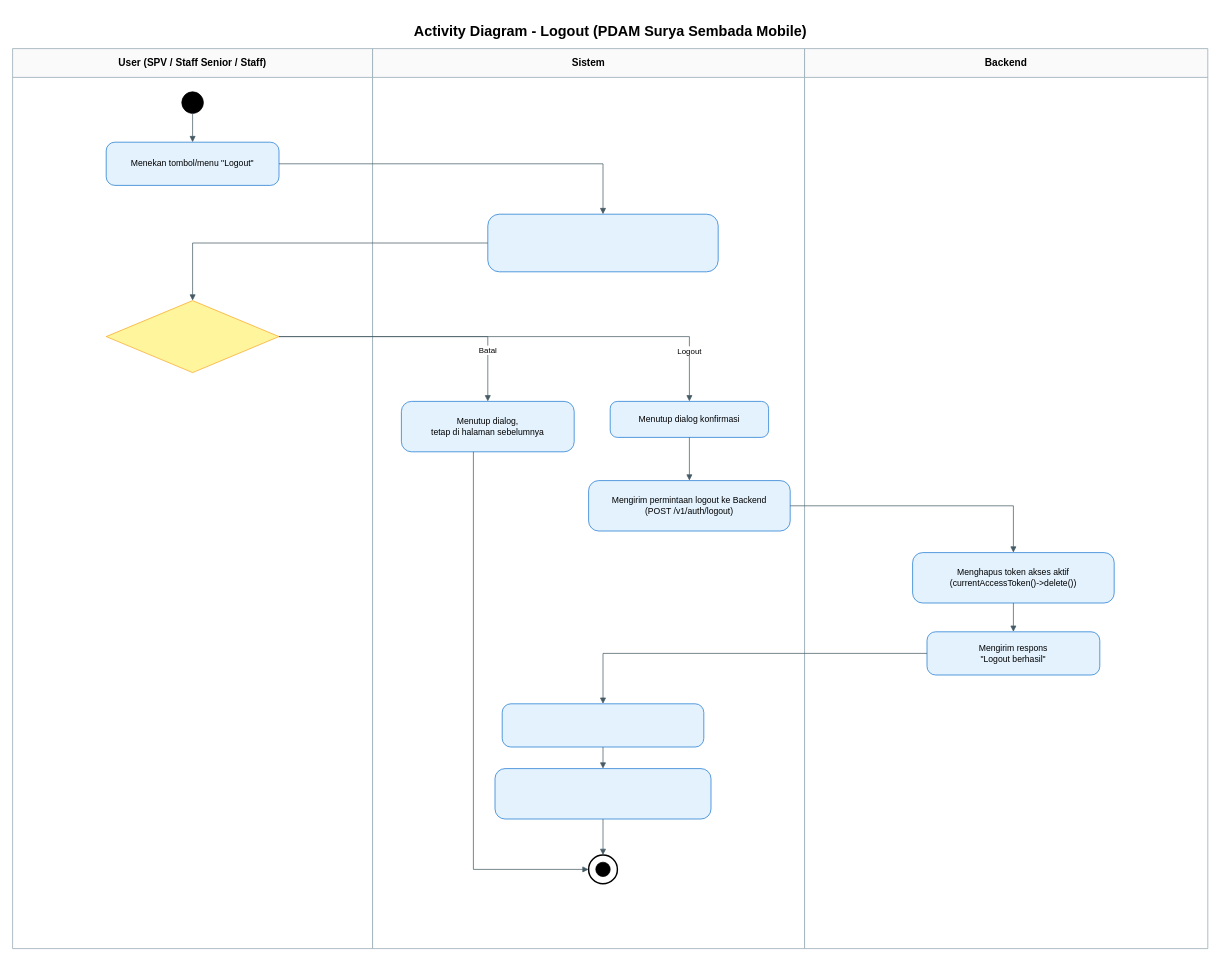
The diagram is 1220 pixels wide and 961 high, and some of its shapes have lost their labels. Here are the shapes that lost their labels. From the top down, the centre of each, then its label:
(602,242): Menampilkan dialog konfirmasi "Apakah Anda yakin ingin logout?"
(192,336): Memilih tombol pada dialog?
(602,725): Menghapus sesi login lokal (token & data pengguna)
(602,793): Mengarahkan ke halaman Login (hapus seluruh riwayat navigasi)
